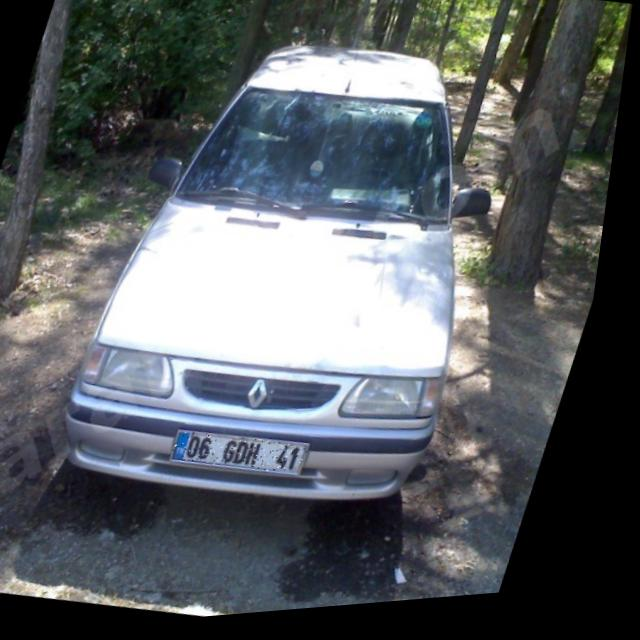license_plate: (180, 426, 325, 489)
